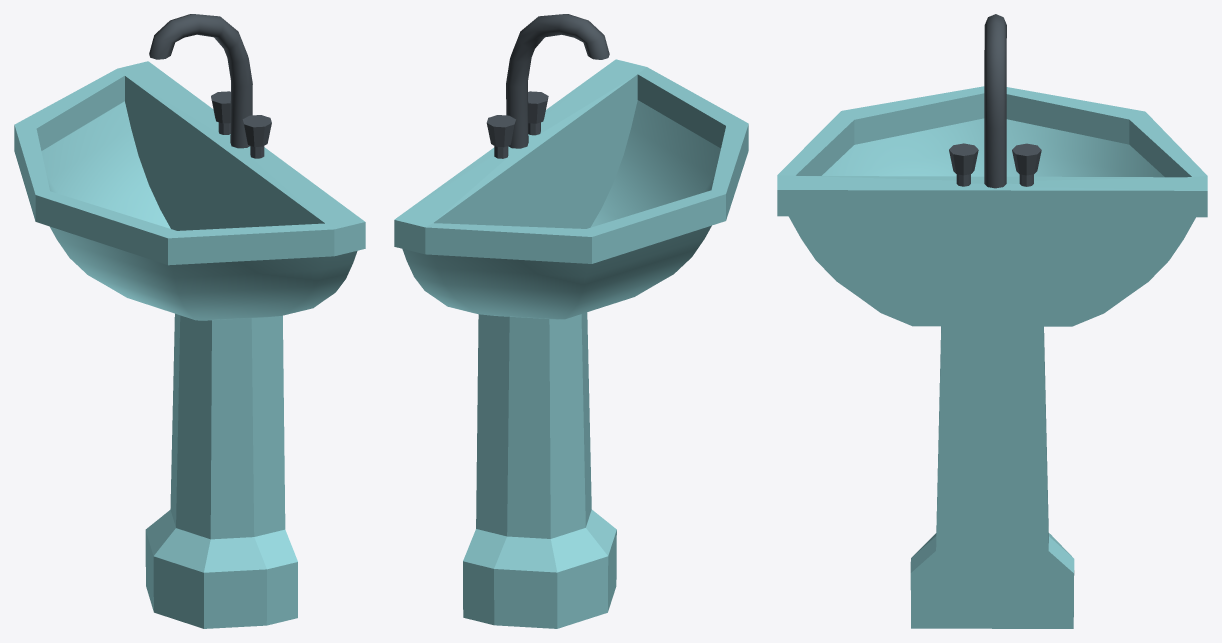
File: Lavamanos.fbx
3 views of the same model, side by side, from view 1: azimuth 30°, elevation 25°; view 2: azimuth 150°, elevation 25°; view 3: azimuth 270°, elevation 25° (orthographic). The views are drawn at different scales.
Parts seen in each view (by area): view 1: Cylinder.004; view 2: Cylinder.004; view 3: Cylinder.004.
Boxes of the visible parts, left/top/right/bottom form: Cylinder.004: left=14, top=14, right=365, bottom=628; Cylinder.004: left=394, top=14, right=748, bottom=628; Cylinder.004: left=777, top=14, right=1207, bottom=628.
Bounding box in the file's own units: 0.2695 × 0.6825 × 0.4615.
